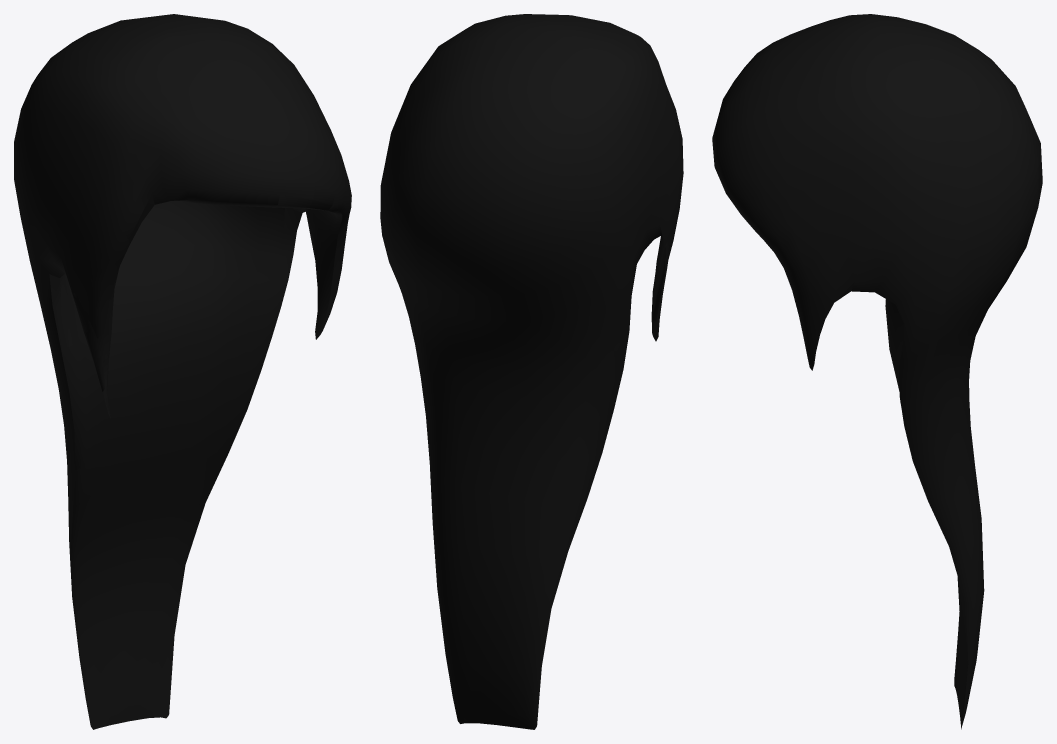
Rendered from girlHair.obj.
3 views of the same model, side by side, from view 1: azimuth 30°, elevation 25°; view 2: azimuth 150°, elevation 25°; view 3: azimuth 270°, elevation 25° (orthographic). The views are drawn at different scales.
Visible parts, largest first — view 1: hair_Mesh.004; view 2: hair_Mesh.004; view 3: hair_Mesh.004.
Part boxes in pixels (<box>): hair_Mesh.004: <box>14,14,351,729</box>; hair_Mesh.004: <box>380,14,683,729</box>; hair_Mesh.004: <box>712,14,1042,729</box>.
Bounding box in the file's own units: 0.1873 × 0.4869 × 0.2145.
1 material, 1 textured.
